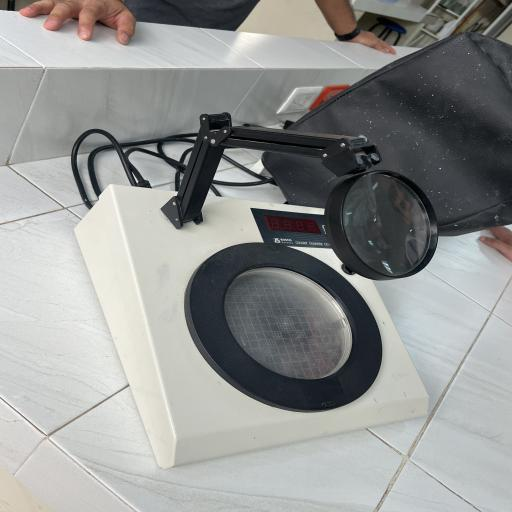Contador_Colonias_CC1: (59, 107, 461, 476)
